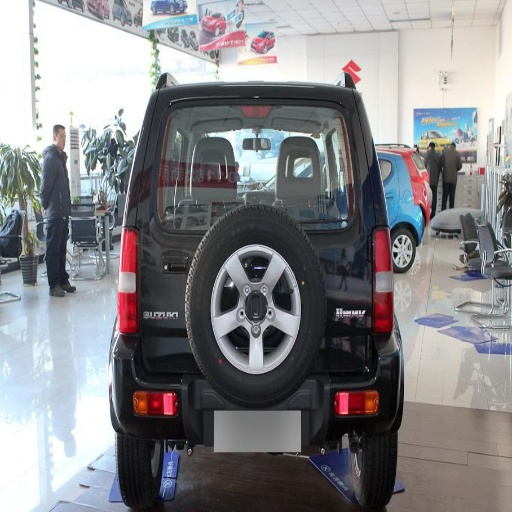back_bumper: (111, 333, 192, 425), (331, 340, 404, 425), (316, 247, 371, 322)
trunk: (143, 180, 211, 339)
